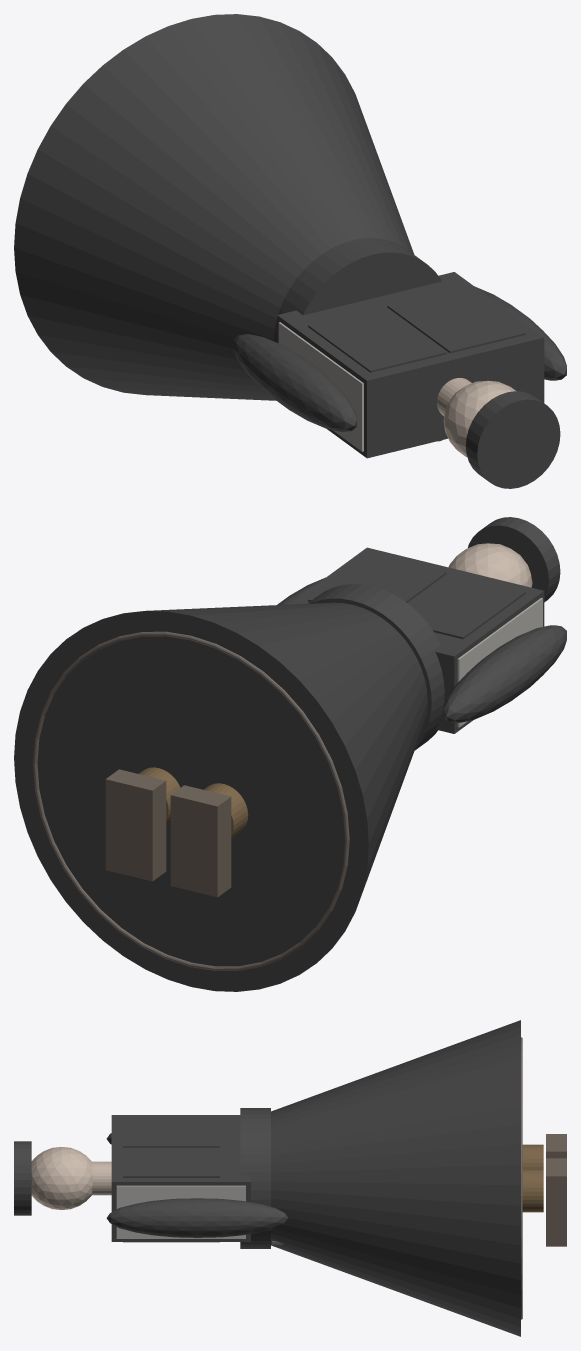
The model's file is MASTER_100_STAGE3_DETAIL.glb.
3 views of the same model, one above another, from view 1: azimuth 30°, elevation 25°; view 2: azimuth 150°, elevation 25°; view 3: azimuth 270°, elevation 25° (orthographic). The views are drawn at different scales.
Visible parts, largest first — view 1: slot_lower_main__fund_i_gjatë, slot_upper_inner__këmishë, slot_waist__brez, slot_headwear__mbulesë_koke, slot_upper_inner_sleeve_L, slot_upper_outer__jelek_L, slot_upper_outer__jelek_R, mannequin_torso, mannequin_head, slot_upper_inner_sleeve_R; view 2: slot_lower_main__fund_i_gjatë, slot_footwear__opinga_R, slot_footwear__opinga_L, slot_upper_inner_sleeve_L, detail_skirt_hem, slot_waist__brez, slot_upper_inner__këmishë, slot_upper_outer__jelek_L, slot_headwear__mbulesë_koke, slot_upper_outer__jelek_R, mannequin_head, mannequin_torso (+2 smaller); view 3: slot_lower_main__fund_i_gjatë, slot_upper_inner_sleeve_R, slot_upper_inner__këmishë, mannequin_head, slot_upper_outer__jelek_R, slot_waist__brez, slot_upper_outer__jelek_L, mannequin_torso, slot_footwear__opinga_R, slot_headwear__mbulesë_koke, slot_legwear__çorape_R, mannequin_neck (+3 smaller).
Part boxes in pixels (left/top/right/bottom): slot_lower_main__fund_i_gjatë: left=14, top=14, right=414, bottom=400; slot_upper_inner__këmishë: left=277, top=272, right=544, bottom=458; slot_waist__brez: left=274, top=238, right=441, bottom=342; slot_headwear__mbulesë_koke: left=465, top=391, right=560, bottom=488; slot_upper_inner_sleeve_L: left=233, top=334, right=356, bottom=431; slot_upper_outer__jelek_L: left=308, top=306, right=446, bottom=372; slot_upper_outer__jelek_R: left=387, top=287, right=525, bottom=353; mannequin_torso: left=278, top=322, right=363, bottom=451; mannequin_head: left=443, top=380, right=516, bottom=456; slot_upper_inner_sleeve_R: left=475, top=286, right=566, bottom=380; slot_lower_main__fund_i_gjatë: left=14, top=602, right=427, bottom=991; slot_footwear__opinga_R: left=105, top=769, right=166, bottom=881; slot_footwear__opinga_L: left=170, top=785, right=231, bottom=897; slot_upper_inner_sleeve_L: left=443, top=625, right=566, bottom=722; detail_skirt_hem: left=32, top=631, right=349, bottom=970; slot_waist__brez: left=308, top=584, right=444, bottom=750; slot_upper_inner__këmishë: left=289, top=547, right=544, bottom=733; slot_upper_outer__jelek_L: left=408, top=573, right=525, bottom=639; slot_headwear__mbulesë_koke: left=468, top=517, right=560, bottom=602; slot_upper_outer__jelek_R: left=308, top=553, right=446, bottom=602; mannequin_head: left=448, top=543, right=532, bottom=587; mannequin_torso: left=457, top=598, right=542, bottom=727; slot_lower_main__fund_i_gjatë: left=271, top=1020, right=520, bottom=1336; slot_upper_inner_sleeve_R: left=106, top=1198, right=288, bottom=1237; slot_upper_inner__këmishë: left=111, top=1115, right=250, bottom=1241; mannequin_head: left=31, top=1147, right=92, bottom=1209; slot_upper_outer__jelek_R: left=123, top=1147, right=219, bottom=1242; slot_waist__brez: left=240, top=1108, right=270, bottom=1248; slot_upper_outer__jelek_L: left=123, top=1117, right=219, bottom=1147; mannequin_torso: left=116, top=1185, right=245, bottom=1238; slot_footwear__opinga_R: left=546, top=1158, right=566, bottom=1246; slot_headwear__mbulesë_koke: left=14, top=1141, right=31, bottom=1215; slot_legwear__çorape_R: left=522, top=1169, right=543, bottom=1212; mannequin_neck: left=91, top=1161, right=111, bottom=1195.
Bounding box in the file's own units: 0.9808 × 0.9808 × 1.71.
